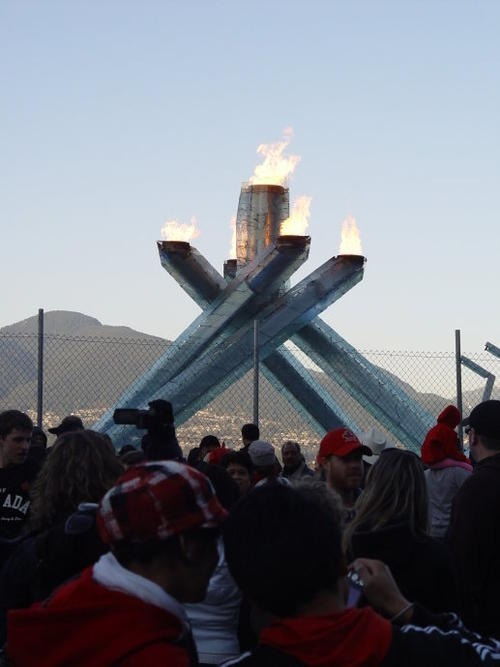fire: (249, 123, 300, 184), (281, 194, 312, 235), (159, 215, 199, 242), (339, 215, 361, 255)
